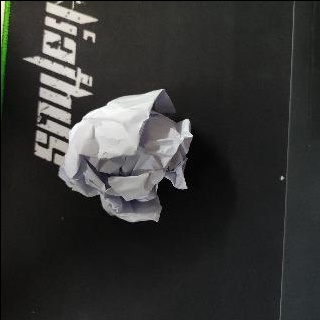8/可回收垃圾/纸: (57, 88, 193, 222)
